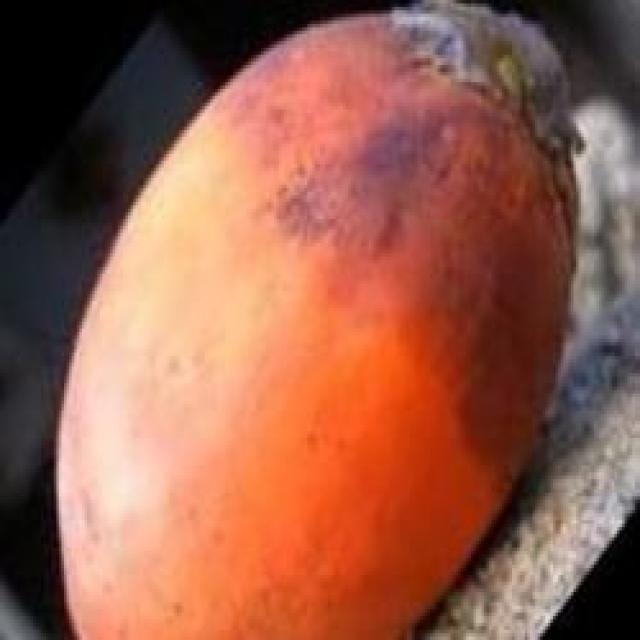good: (51, 0, 637, 637)
